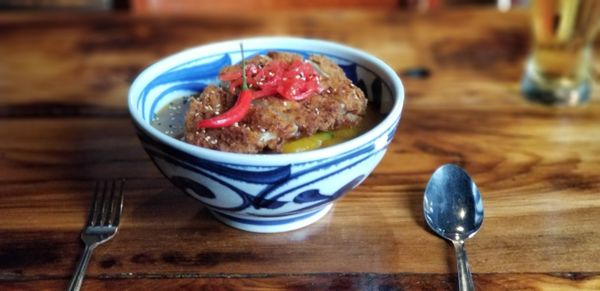salad: (422, 163, 485, 289)
sushi: (126, 39, 405, 235)
